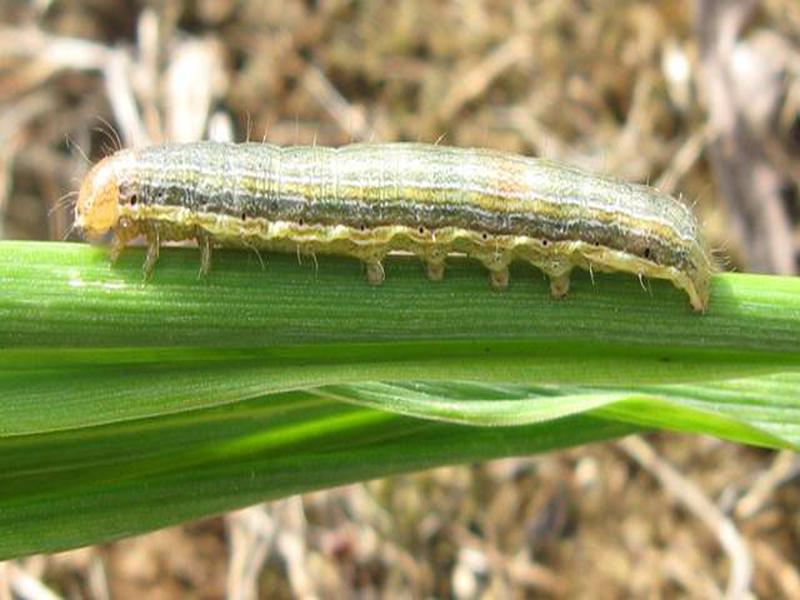Armyworms: (75, 126, 720, 326)
